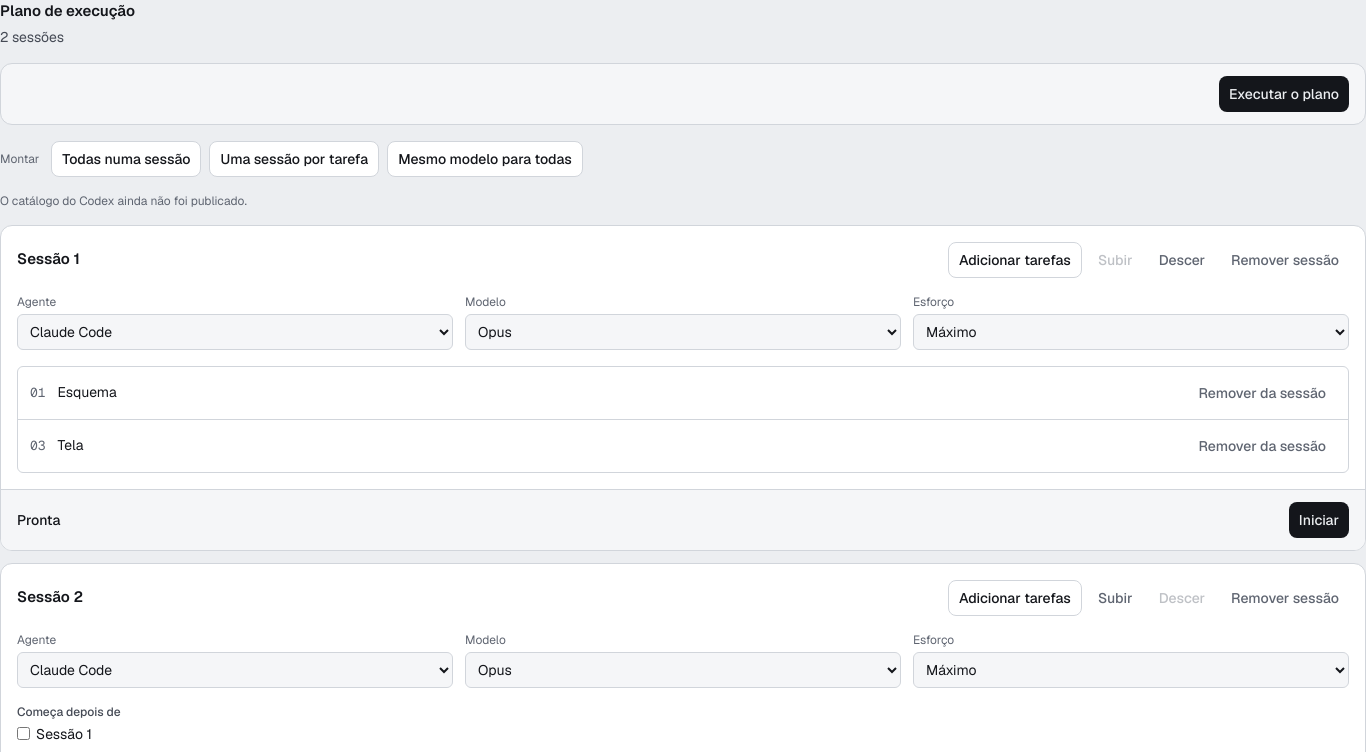
ExecutionPlanEditor shortcuts and read-only › applies one choice to every session that was not started from the shortcut
Click the button "Mesmo modelo para todas".
click(485, 158)  # box [387, 140, 583, 176]
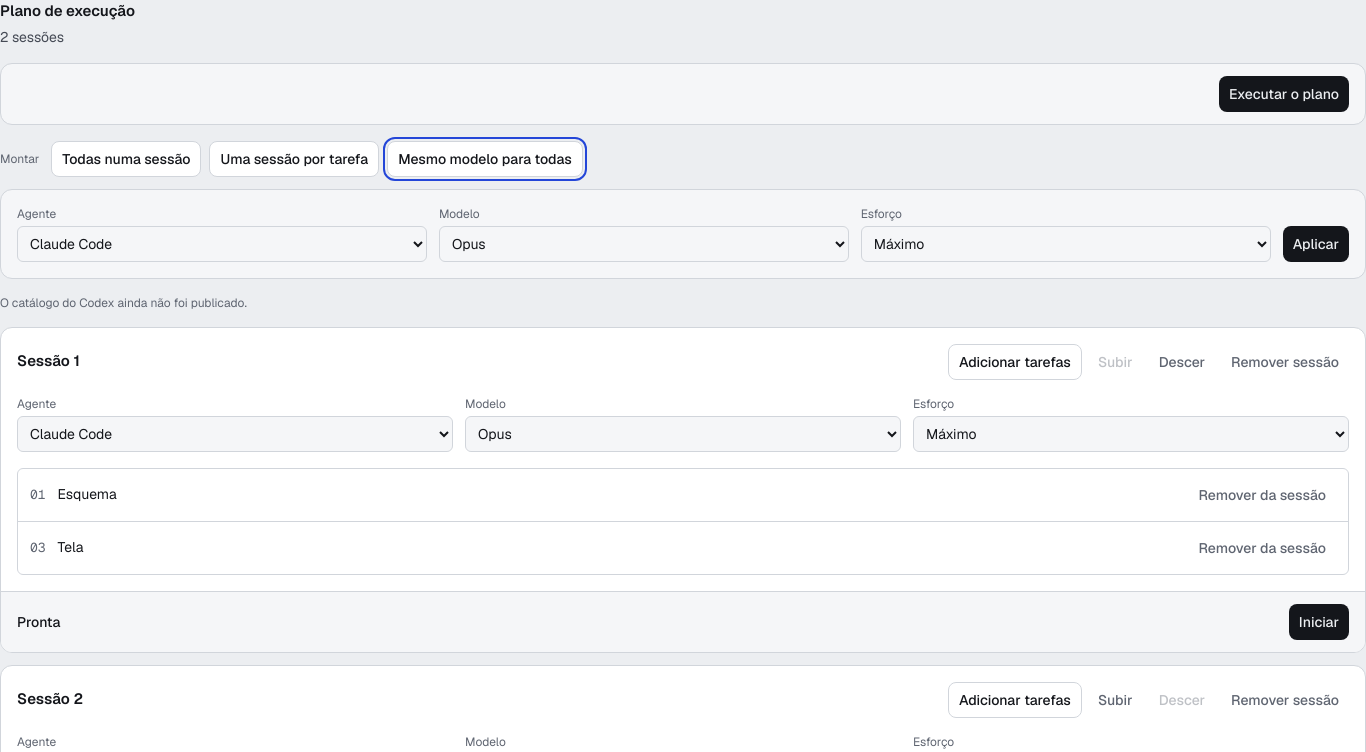
Select "Haiku" in the 1st dropdown labelled "Modelo" at (644, 244), box [439, 226, 849, 262]
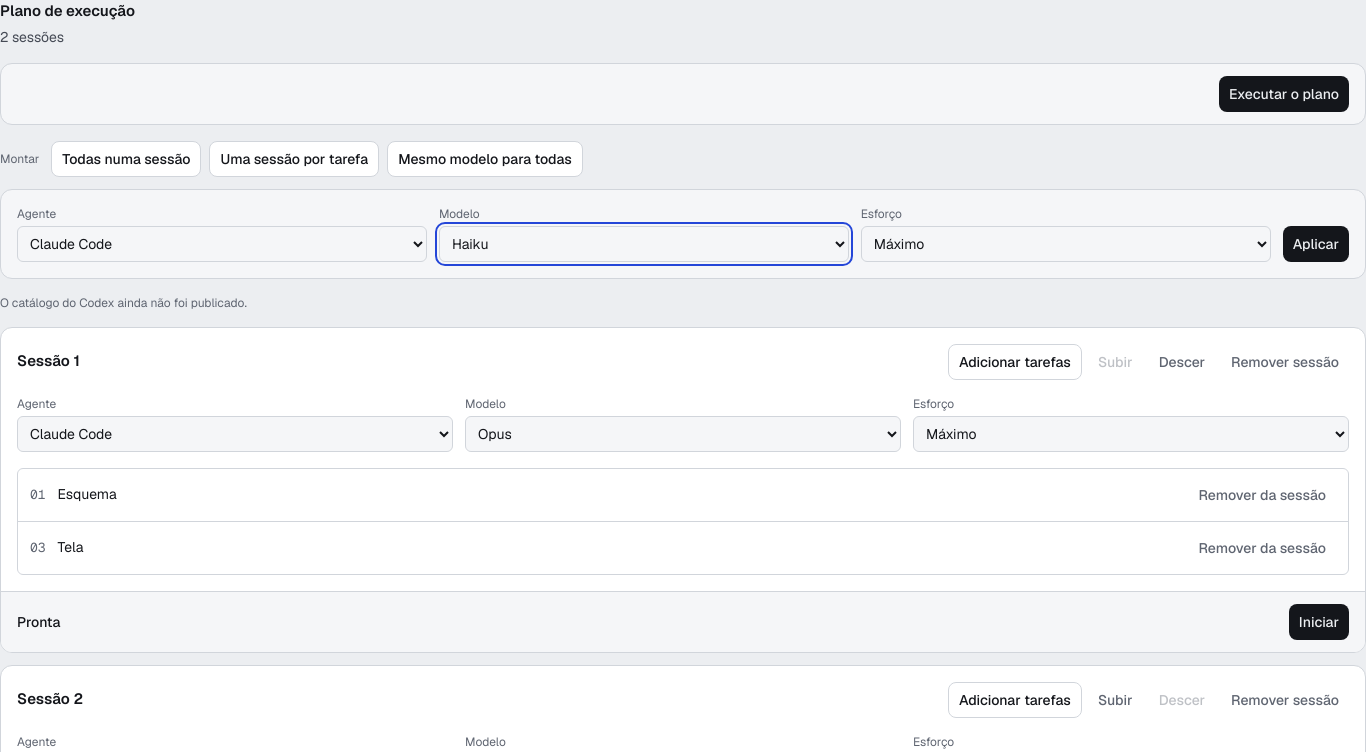
Select "Médio" in the 1st dropdown labelled "Esforço" at (1066, 244), box [861, 226, 1271, 262]
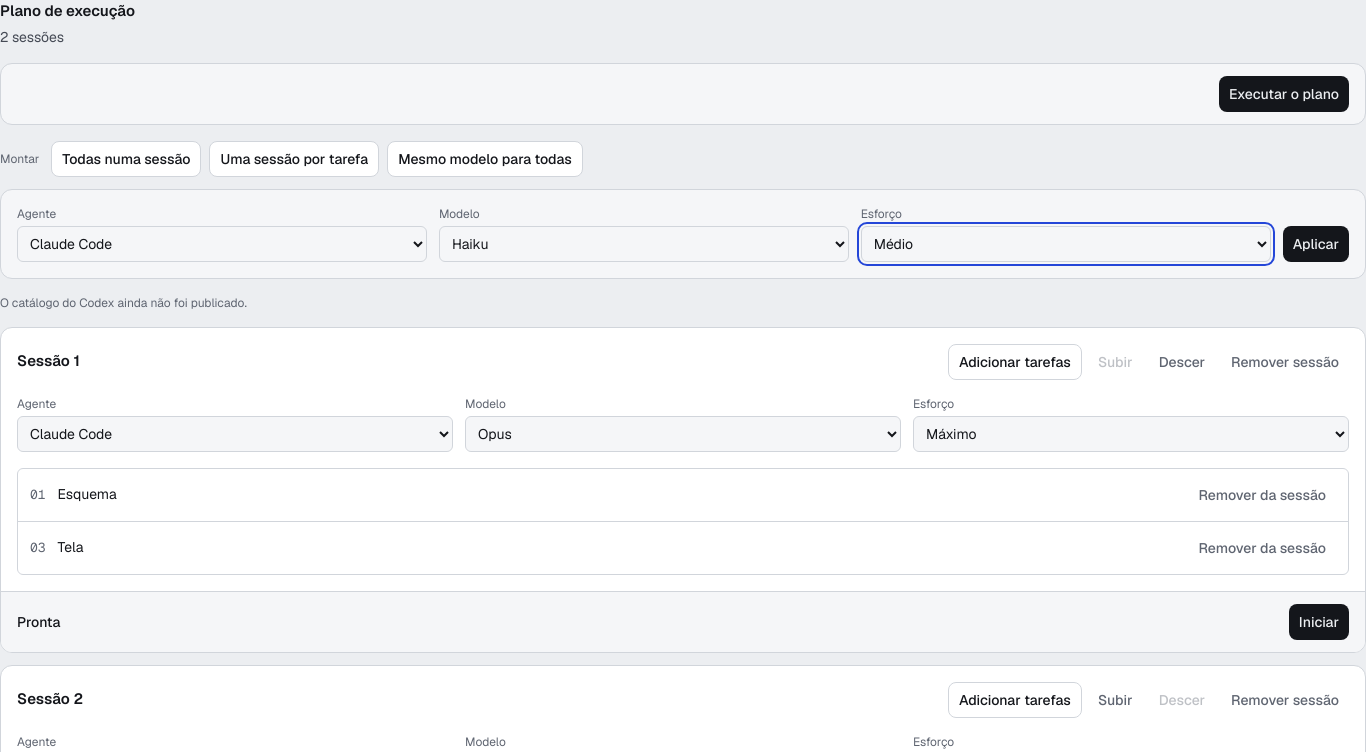
Click the button "Aplicar".
click(1316, 244)  # box [1283, 226, 1349, 262]
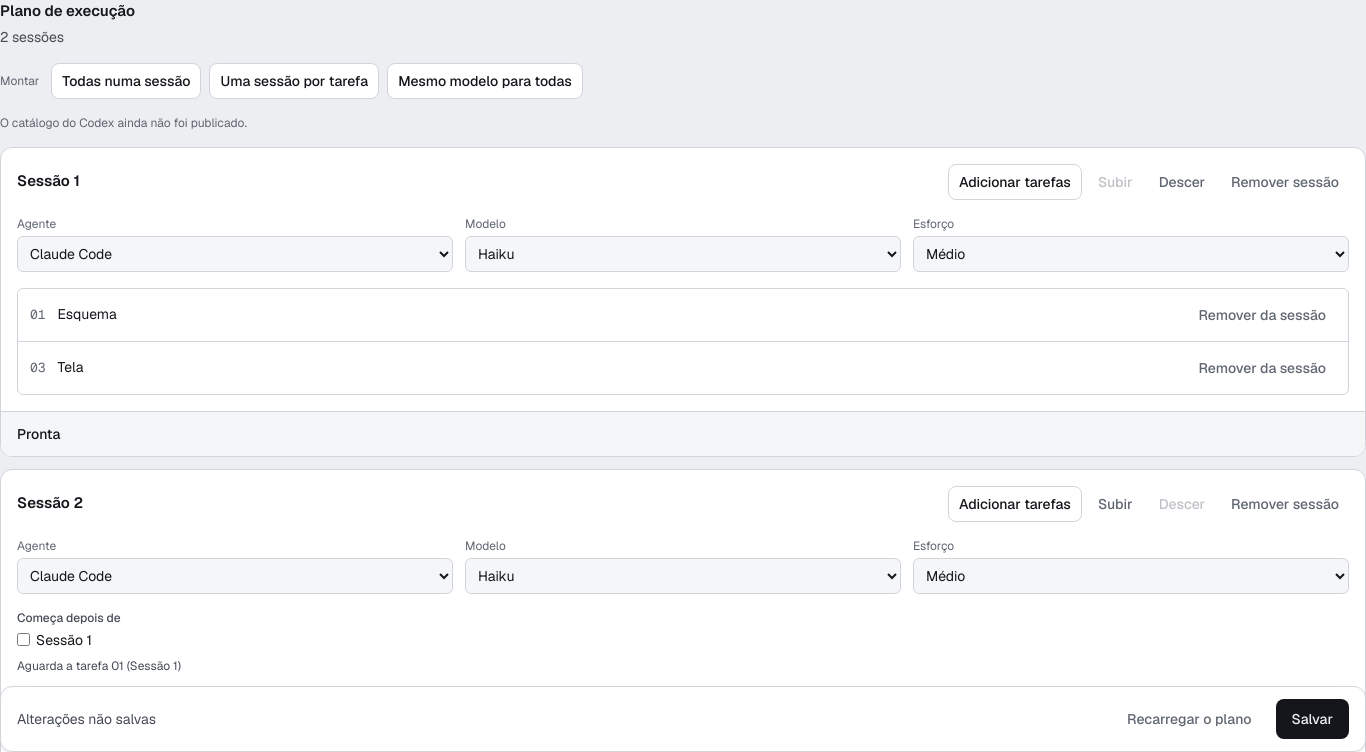
Now the 1st dropdown labelled "Modelo" shows "Haiku", box [465, 236, 901, 272]
Now the 2nd dropdown labelled "Modelo" shows "Haiku", box [465, 558, 901, 594]
